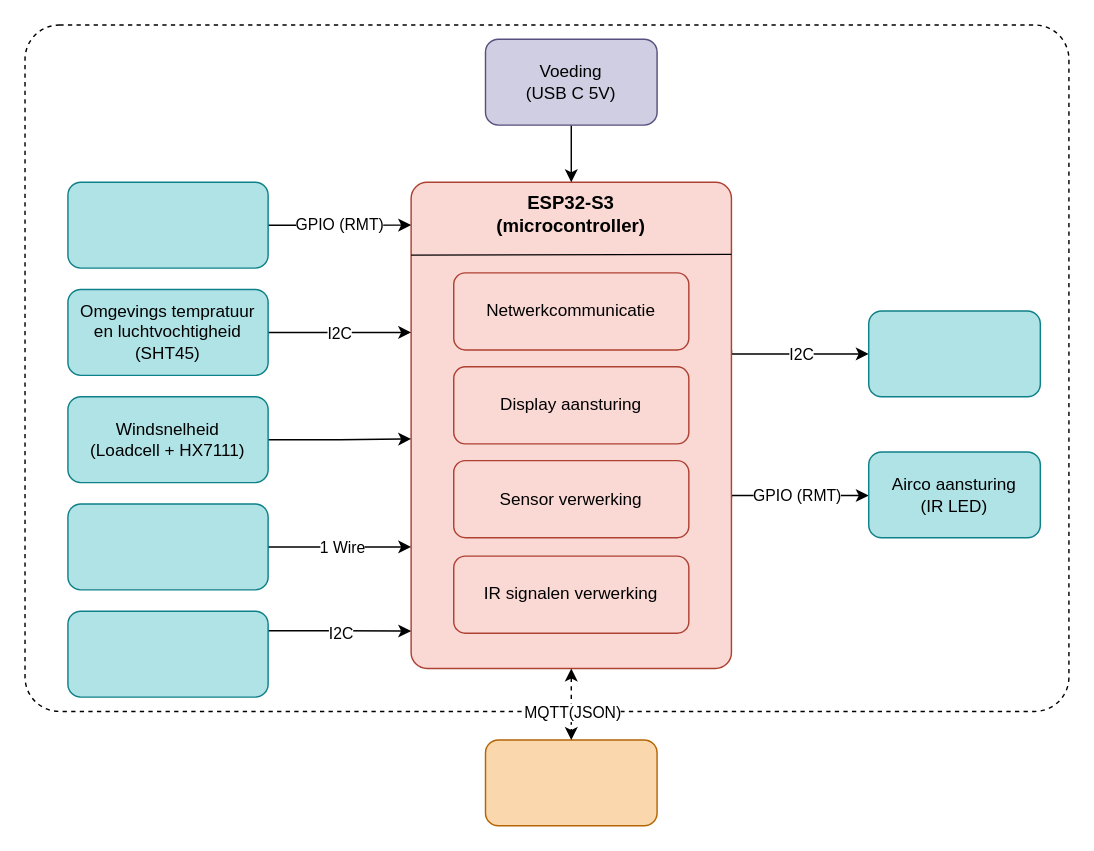
This 1094x851 diagram has some shape labels left out. Each missing label, with the centre of its shape:
Afstandsbediening uitlezen (VS1838B): point 167,224
Centrale server: point 570,782
Display (SH1106 driver): point 953,353
Water tempratuur (DS18B20): point 167,546
Waterniveau (VL53L4CD): point 167,653
